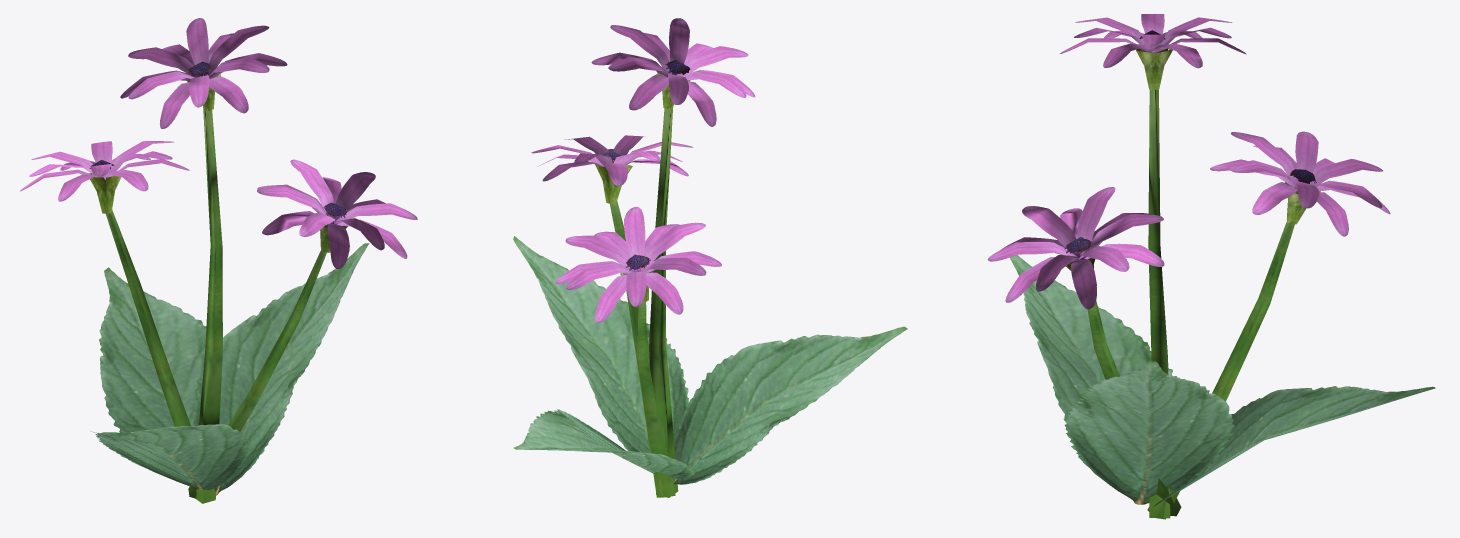
File: pinkf3.obj
3 renders of one model, left to right at view 1: azimuth 30°, elevation 25°; view 2: azimuth 150°, elevation 25°; view 3: azimuth 270°, elevation 25°, orthographic. The views are drawn at different scales.
Parts seen in each view (by area): view 1: pinkf03; view 2: pinkf03; view 3: pinkf03.
Boxes of the visible parts, box(x1,y1,x2,y2) form: pinkf03: box(20, 18, 417, 503); pinkf03: box(513, 18, 907, 497); pinkf03: box(987, 14, 1435, 519).
Size of the model in its own units: 25.5 by 28.77 by 25.97.
Materials: 2 (2 with a texture image).
